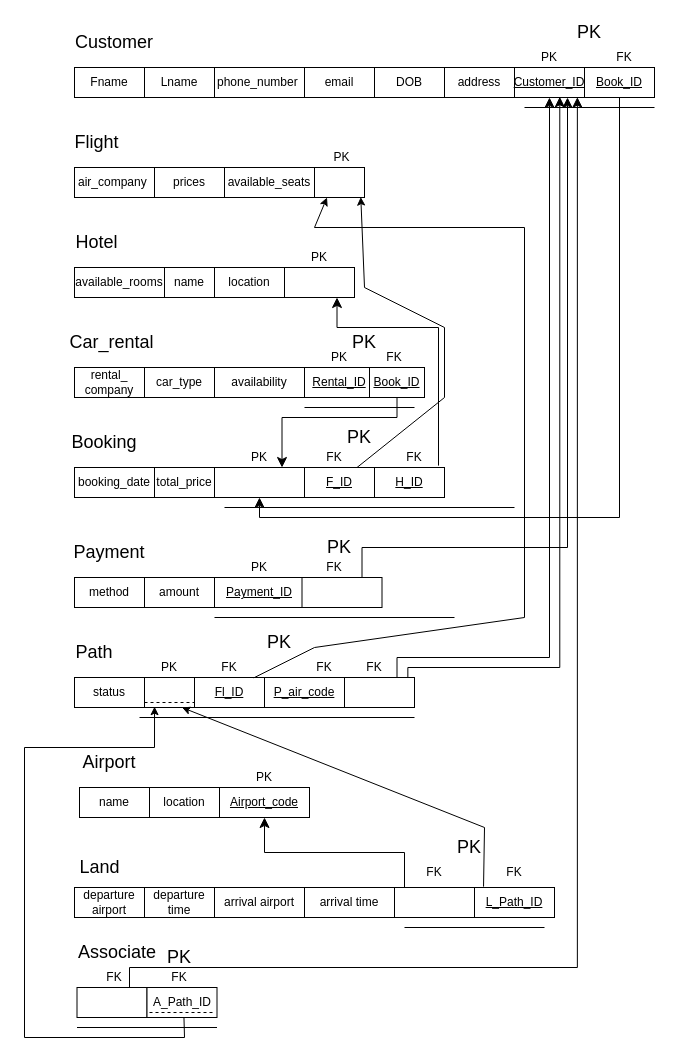
Image size: 673x1063. Some labels were removed from this diagram. Here are the shapes that lost their labels. From the top down, the centre of each, then its label:
At point 339,182: "Flight_ID".
At point 319,282: "Hotel_ID".
At point 259,482: "Booking_ID".
At point 341,592: "Cust_ID".
At point 169,692: "Path_ID".
At point 379,692: "P_Cust_ID".
At point 434,902: "Air_code".
At point 111,1002: "A_Cust_ID".
